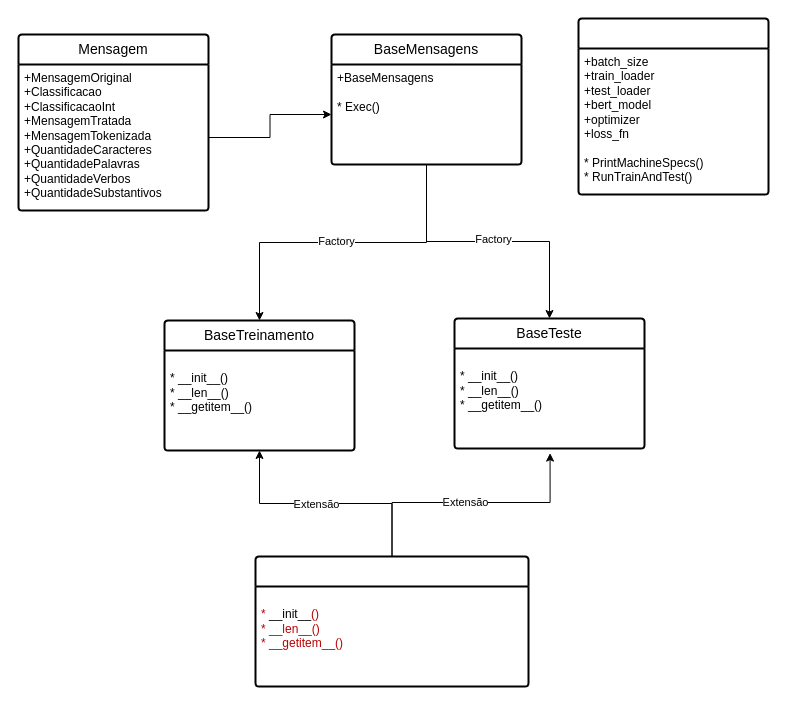
Image size: 786x704. Some labels were removed from this diagram. Each missing label, with the box of its shape:
BertHandler: (577, 17, 769, 195)
from torch.utils.data import Dataset: (254, 555, 529, 687)
